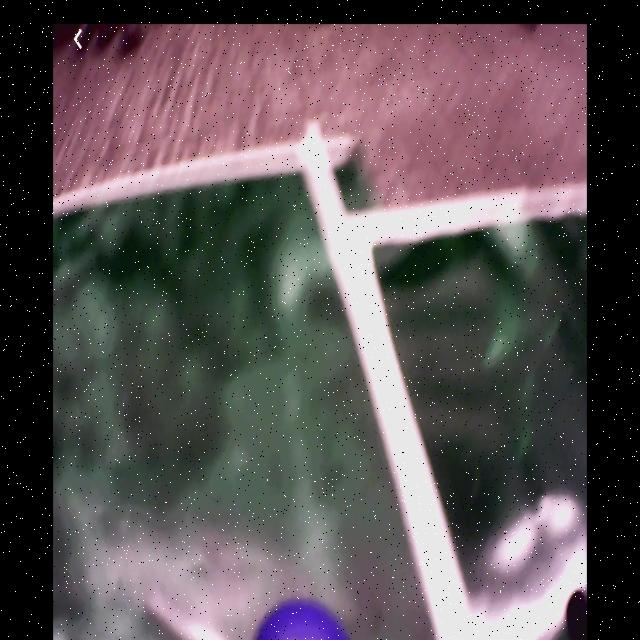ball: (257, 600, 351, 640)
